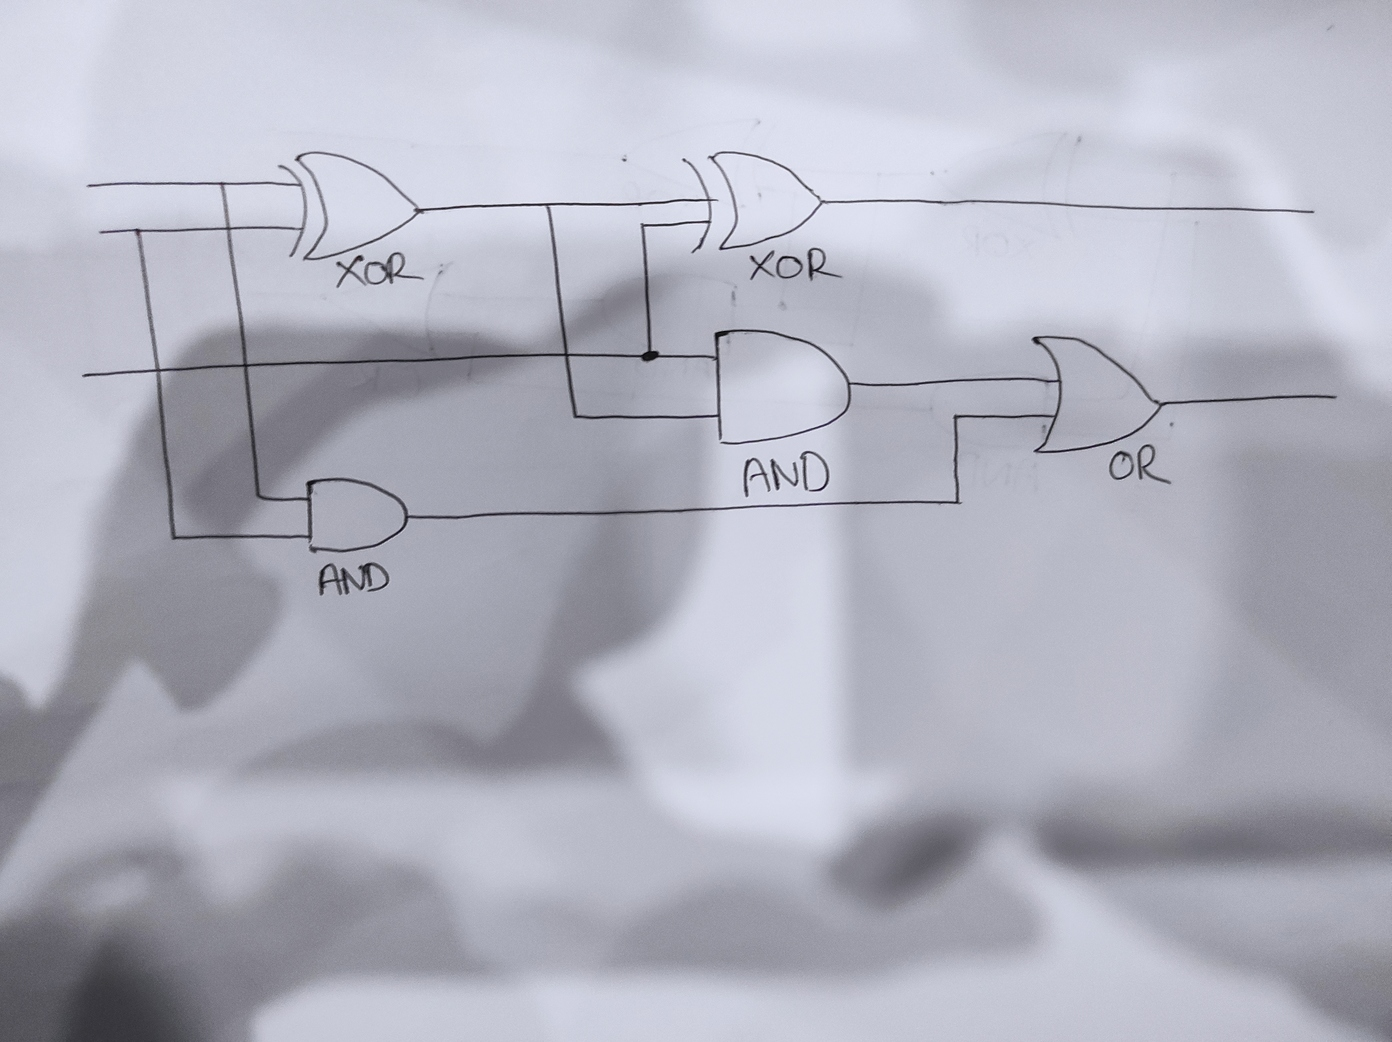and: (709, 323, 856, 448), (303, 475, 413, 558)
crossover: (146, 361, 170, 379), (236, 356, 255, 373), (558, 347, 577, 361), (220, 220, 235, 235)
junction: (944, 406, 968, 430), (638, 345, 663, 366), (946, 490, 968, 512), (537, 196, 559, 215), (250, 487, 268, 505), (165, 529, 183, 546), (567, 408, 584, 422), (636, 219, 651, 233), (214, 177, 230, 190), (130, 224, 144, 238)
or: (1026, 328, 1167, 458)
terminal: (1309, 385, 1352, 413), (1297, 202, 1323, 221), (81, 176, 98, 195), (74, 368, 93, 383), (94, 227, 109, 238)
text: (736, 451, 833, 498), (332, 248, 427, 289), (310, 556, 396, 600), (747, 247, 842, 286), (1106, 443, 1173, 489)
xor: (272, 147, 427, 265), (678, 147, 832, 256)
